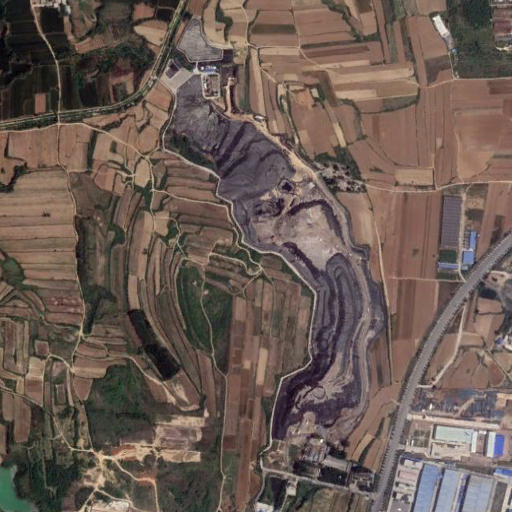lf: (161, 74, 381, 442)
